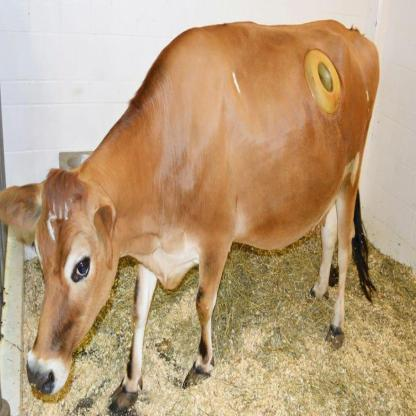cow: (0, 19, 380, 416)
